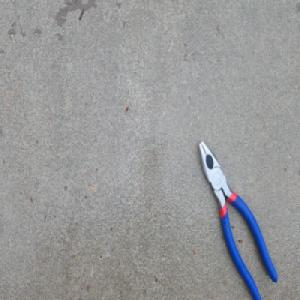Pliers: (197, 137, 279, 300)
